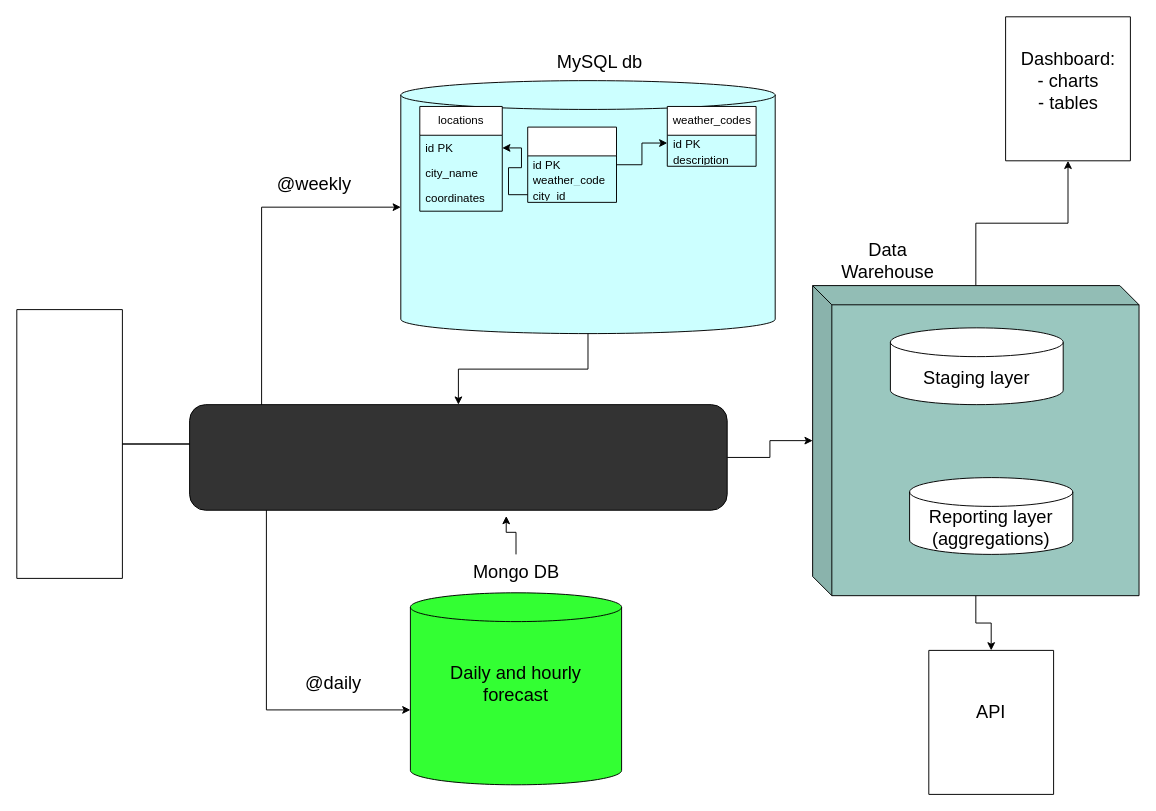
Image size: 1156x811. Some labels were removed from this diagram. Here are the shapes that lost their labels. From the top down, the box of each, then its label:
(527, 126, 617, 202): weather data
(16, 309, 122, 578): Open Meteo Api
(189, 404, 727, 510): VM with job scheduling
